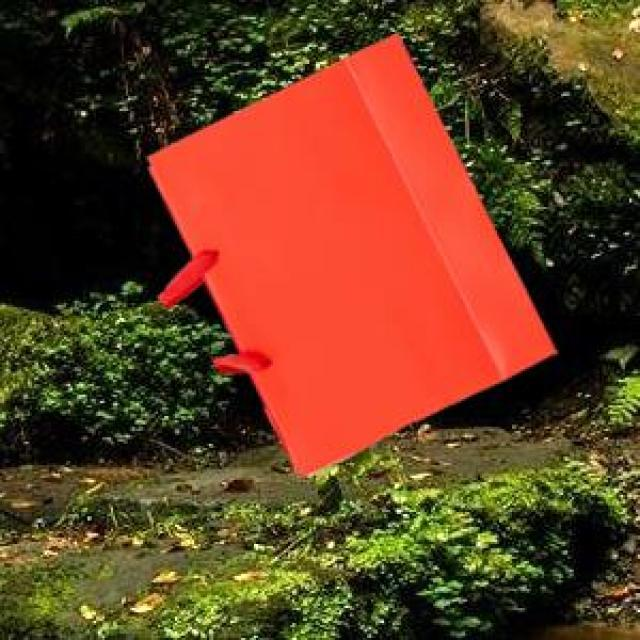Paper_Bag: (146, 31, 554, 472)
